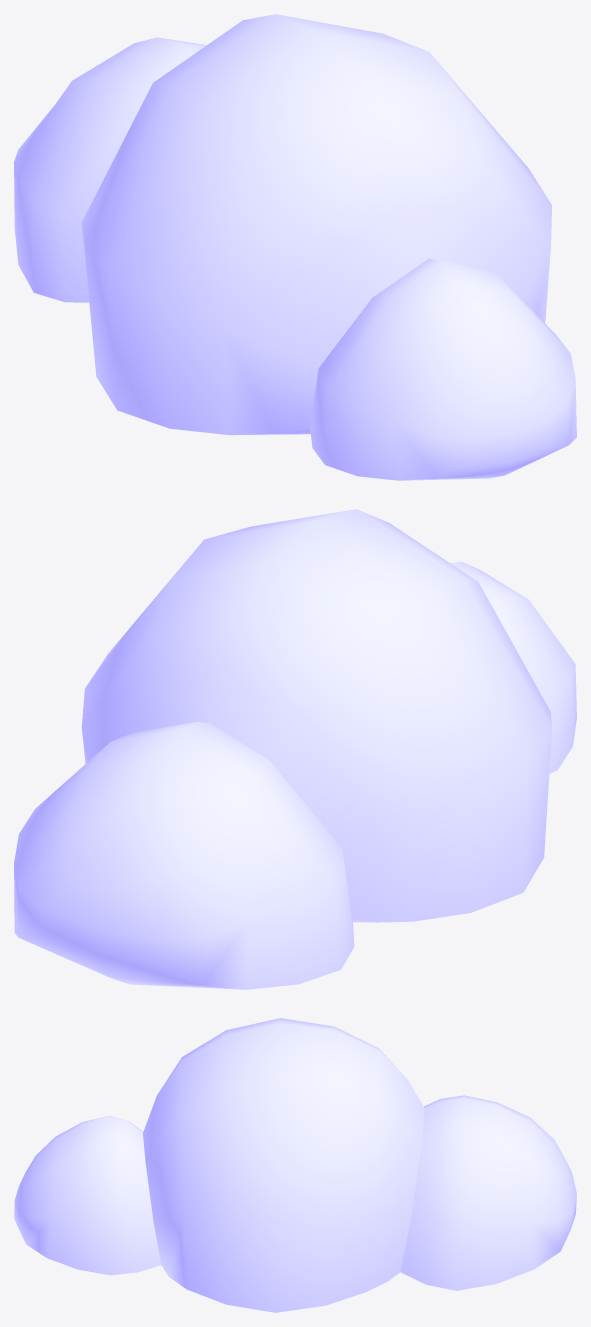
File: Cloud04.fbx
3 views of the same model, one above another, from view 1: azimuth 30°, elevation 25°; view 2: azimuth 150°, elevation 25°; view 3: azimuth 270°, elevation 25° (orthographic). The views are drawn at different scales.
Visible parts, largest first — view 1: Cloud04; view 2: Cloud04; view 3: Cloud04.
Part boxes in pixels (x1,y1,x2,y2): Cloud04: (14, 14, 576, 480); Cloud04: (14, 509, 576, 989); Cloud04: (14, 1018, 576, 1312).
Bounding box in the file's own units: 383 × 323 × 651.
